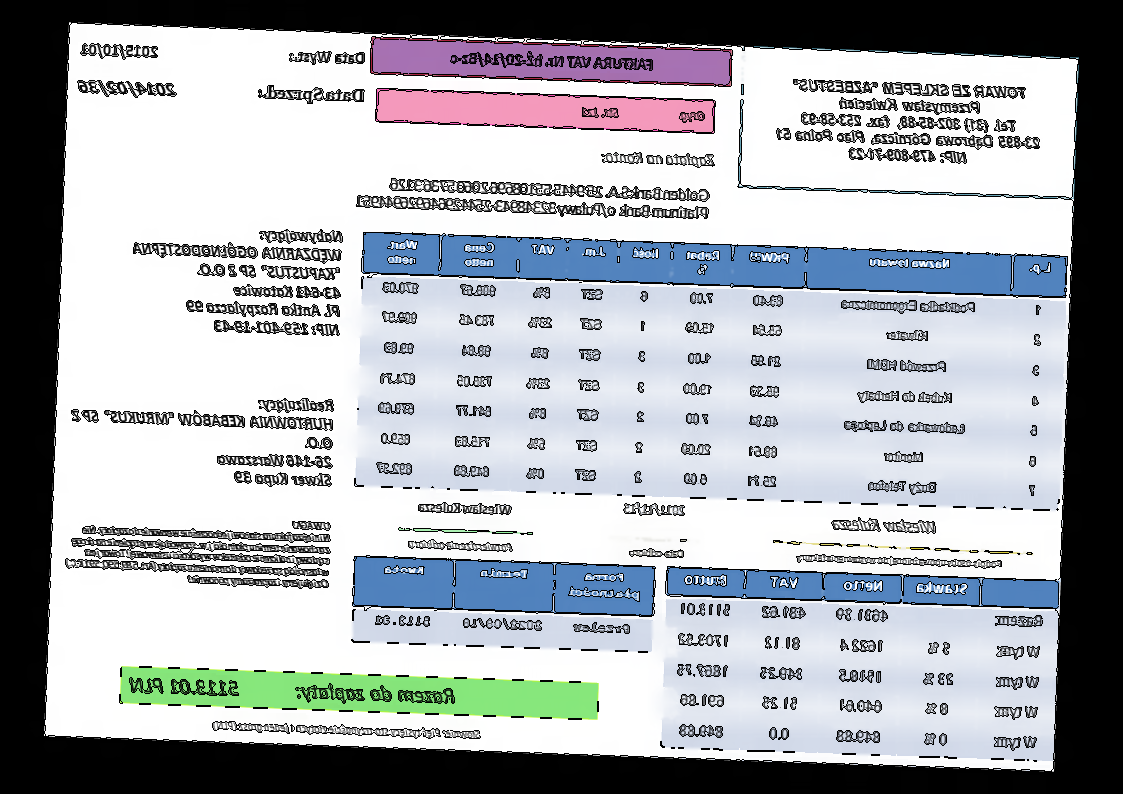Table: (355, 229, 1069, 510), (660, 565, 1060, 762), (351, 555, 657, 653)
TextBox: (67, 387, 336, 489), (126, 222, 344, 340), (772, 77, 1045, 170), (62, 510, 333, 591), (352, 175, 711, 222), (127, 673, 458, 707), (211, 718, 482, 743), (448, 46, 654, 75), (795, 549, 1004, 571), (599, 147, 718, 171), (254, 84, 366, 107), (76, 77, 178, 102), (829, 514, 939, 537), (579, 104, 708, 123), (416, 497, 514, 518), (406, 537, 515, 555), (79, 41, 160, 61), (287, 48, 366, 68), (622, 500, 688, 519), (629, 545, 686, 560)
